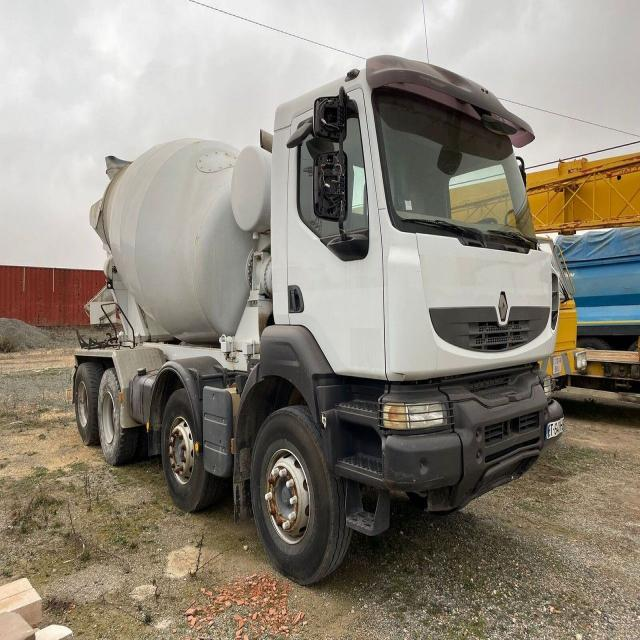Mixer Truck: (71, 54, 564, 586)
